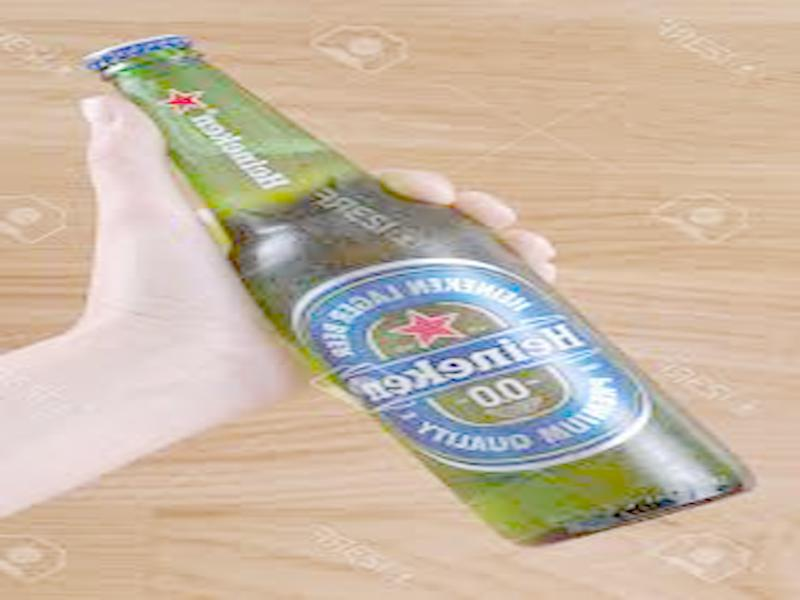Beer: (86, 33, 751, 550)
